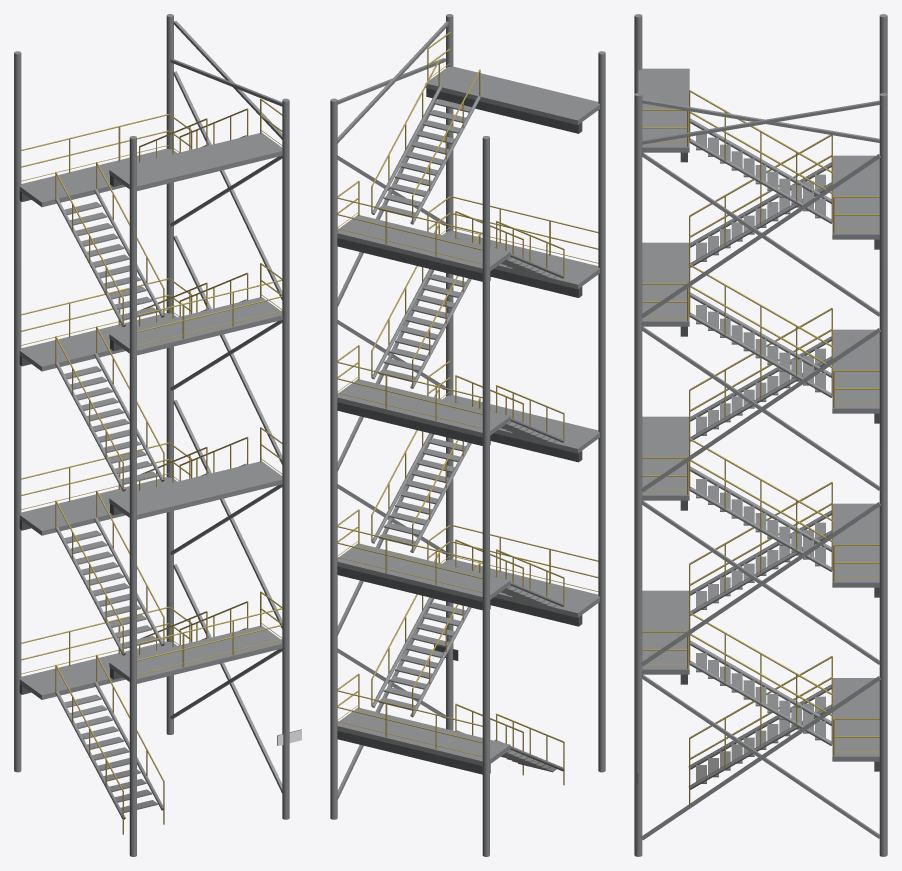
File: stair_w_lo.glb
3 views of the same model, side by side, from view 1: azimuth 30°, elevation 25°; view 2: azimuth 150°, elevation 25°; view 3: azimuth 270°, elevation 25° (orthographic). The views are drawn at different scales.
Parts seen in each view (by area): view 1: stair_w_lo; view 2: stair_w_lo; view 3: stair_w_lo.
Part boxes in pixels (x1,y1,x2,y2): stair_w_lo: [14, 14, 301, 856]; stair_w_lo: [330, 14, 605, 856]; stair_w_lo: [634, 14, 887, 856].
Size of the model in its own units: 5.73 by 22.95 by 6.92.
